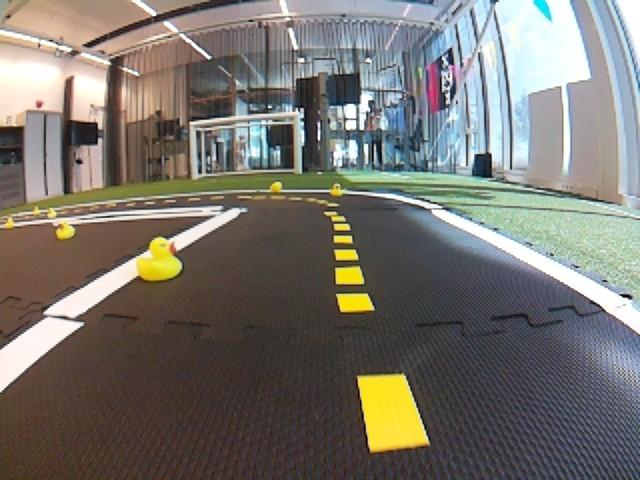Duckies: (137, 236, 181, 282), (55, 223, 74, 239), (330, 183, 343, 196), (4, 218, 17, 230), (270, 182, 282, 192), (46, 210, 56, 218), (33, 209, 41, 215)
